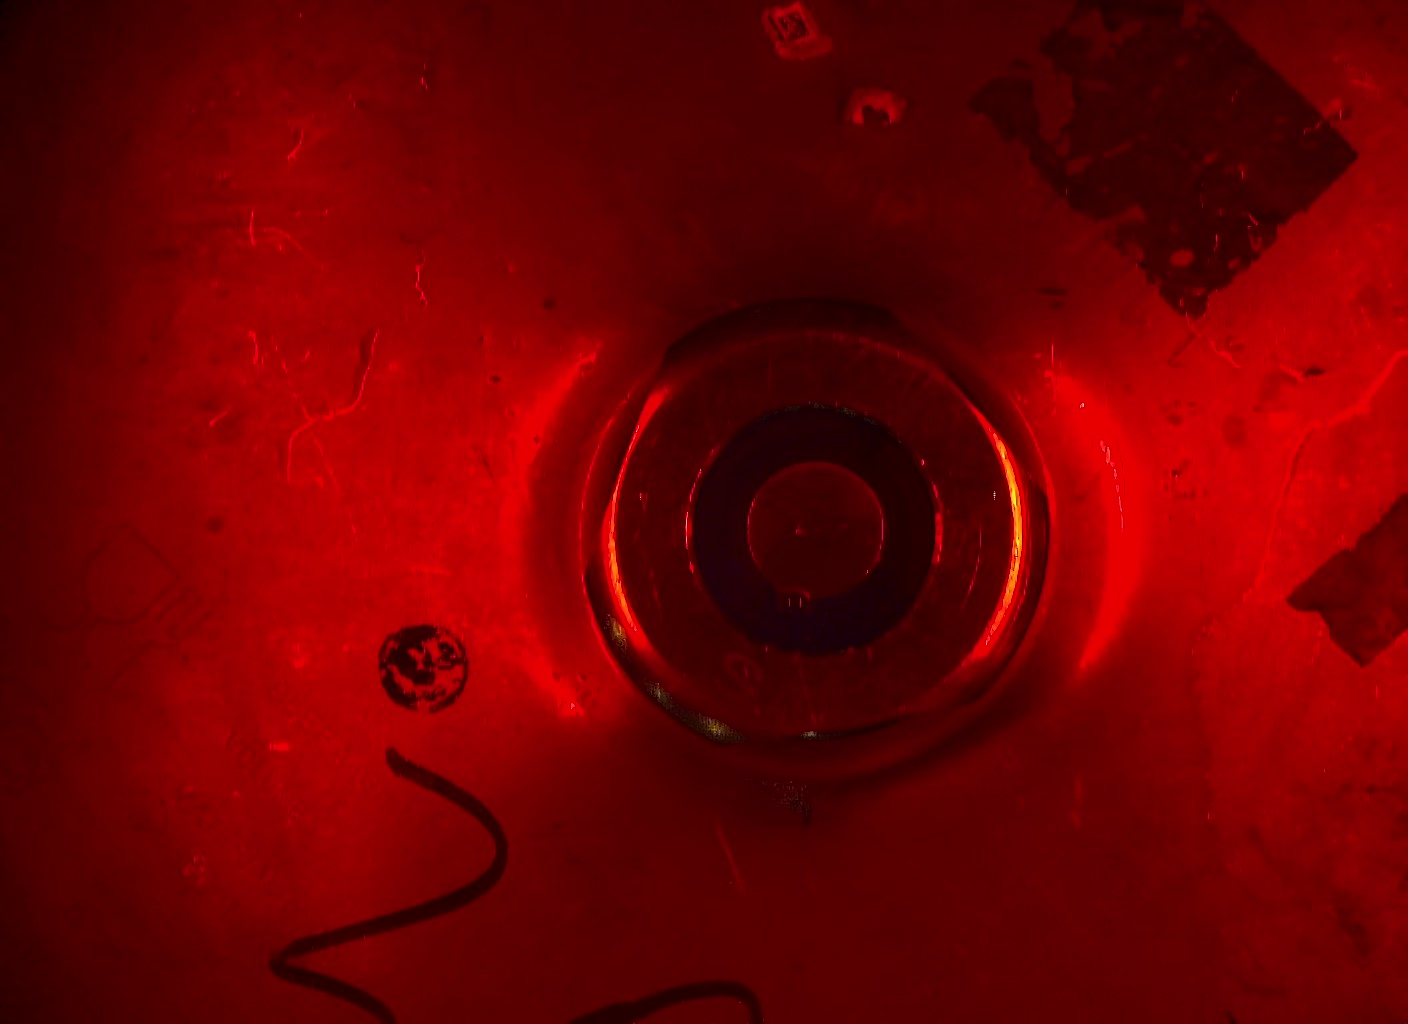pena: (764, 578, 828, 626)
